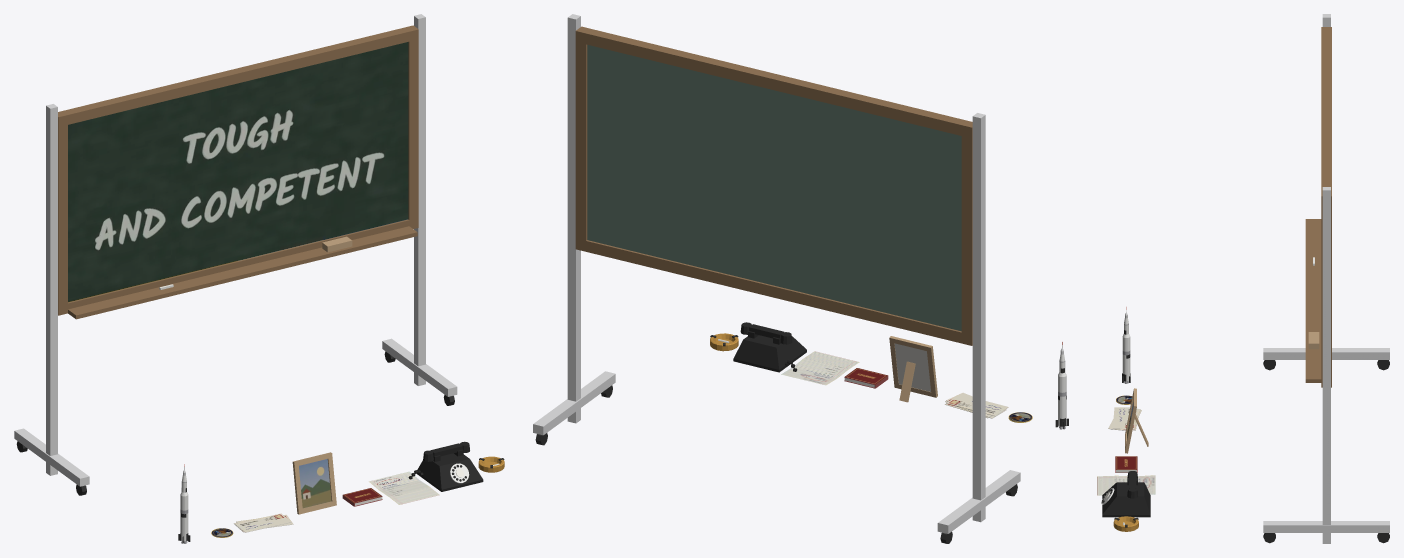
Rendered from earth-props.glb.
3 views of the same model, side by side, from view 1: azimuth 30°, elevation 25°; view 2: azimuth 150°, elevation 25°; view 3: azimuth 270°, elevation 25° (orthographic). The views are drawn at different scales.
Visible parts, largest first — view 1: chalkboard-mesh, rotary-phone-mesh, framed-photo-mesh, alarm-sheet-mesh, signed-envelopes-mesh; view 2: chalkboard-mesh, rotary-phone-mesh, framed-photo-mesh, alarm-sheet-mesh, signed-envelopes-mesh; view 3: chalkboard-mesh, rotary-phone-mesh, alarm-sheet-mesh, framed-photo-mesh, signed-envelopes-mesh, notebook-mesh.
Part boxes in pixels (left/top/right/bottom): chalkboard-mesh: left=14, top=14, right=457, bottom=495; rotary-phone-mesh: left=408, top=441, right=483, bottom=491; framed-photo-mesh: left=292, top=452, right=336, bottom=514; alarm-sheet-mesh: left=369, top=471, right=439, bottom=504; signed-envelopes-mesh: left=234, top=513, right=293, bottom=532; chalkboard-mesh: left=533, top=14, right=1020, bottom=543; rotary-phone-mesh: left=733, top=322, right=806, bottom=372; framed-photo-mesh: left=889, top=336, right=937, bottom=402; alarm-sheet-mesh: left=781, top=351, right=859, bottom=385; signed-envelopes-mesh: left=945, top=392, right=1008, bottom=418; chalkboard-mesh: left=1263, top=14, right=1389, bottom=543; rotary-phone-mesh: left=1101, top=471, right=1150, bottom=517; alarm-sheet-mesh: left=1097, top=475, right=1155, bottom=495; framed-photo-mesh: left=1125, top=388, right=1148, bottom=453; signed-envelopes-mesh: left=1108, top=407, right=1141, bottom=430; notebook-mesh: left=1115, top=456, right=1137, bottom=472.
Size of the model in its own units: 1.99 by 1.85 by 1.39.
15 materials, 1 textured.
